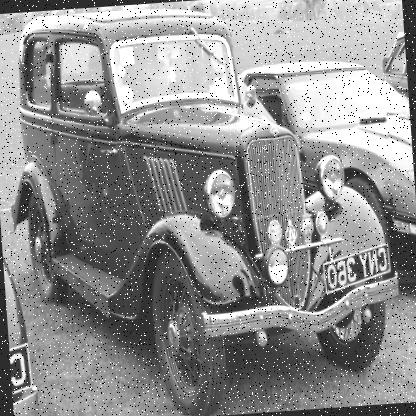Car: (0, 0, 407, 415), (217, 56, 415, 297), (3, 248, 41, 415), (375, 32, 409, 118)
